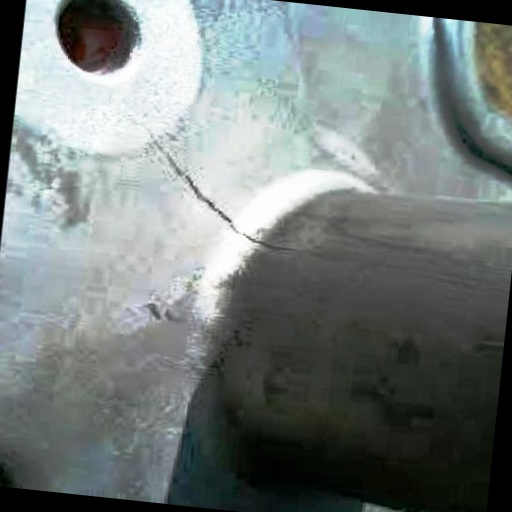crack: (128, 117, 332, 275)
